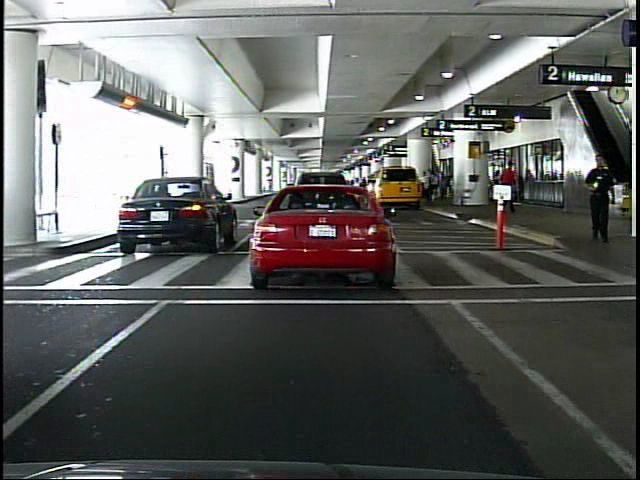person: (583, 151, 613, 244), (498, 159, 518, 214), (419, 165, 432, 202)
